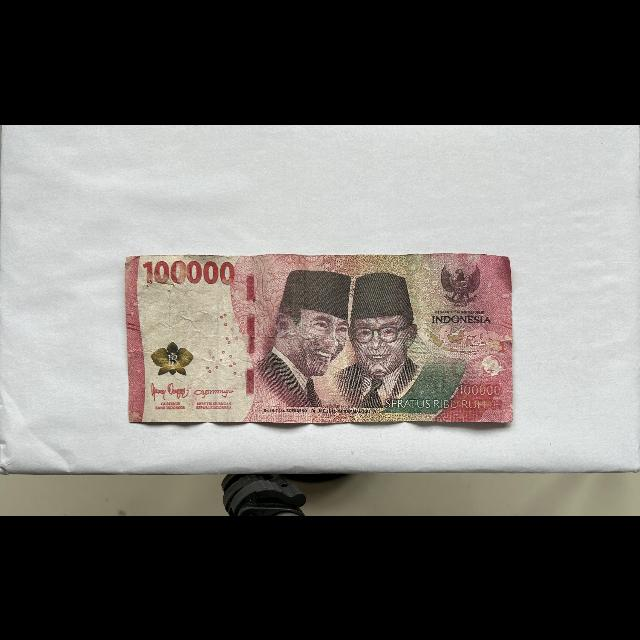Palsu-100k: (124, 251, 514, 424)
Tinta-Palsu-100k: (150, 340, 195, 376)
